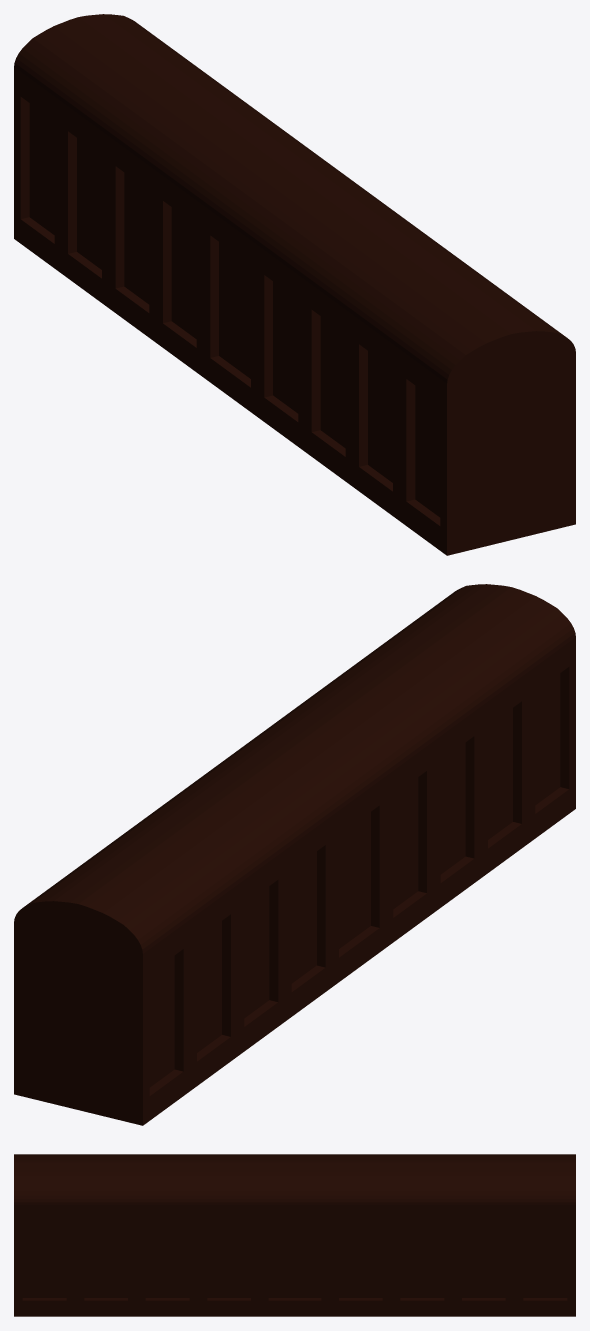
File: container2.obj
3 renders of one model, top to bottom at view 1: azimuth 30°, elevation 25°; view 2: azimuth 150°, elevation 25°; view 3: azimuth 270°, elevation 25°, orthographic. The views are drawn at different scales.
Visible parts, largest first — view 1: Cylinder.018_Cylinder.004; view 2: Cylinder.018_Cylinder.004; view 3: Cylinder.018_Cylinder.004.
Part boxes in pixels (x1,y1,x2,y2): Cylinder.018_Cylinder.004: [14, 14, 575, 555]; Cylinder.018_Cylinder.004: [14, 584, 575, 1125]; Cylinder.018_Cylinder.004: [14, 1154, 575, 1316].
Size of the model in its own units: 11 by 16.8 by 64.
